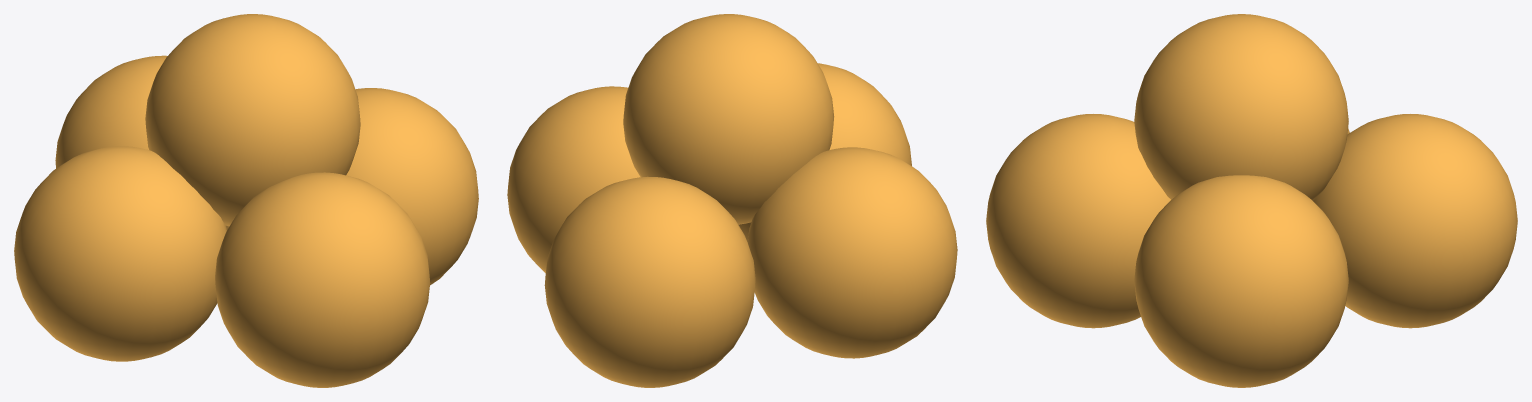
Rendered from ciasto-kopytka.gltf.
The picture shows the model from 3 angles, left to right: view 1: azimuth 30°, elevation 25°; view 2: azimuth 150°, elevation 25°; view 3: azimuth 270°, elevation 25°; orthographic projection. The views are drawn at different scales.
Visible parts, largest first — view 1: Sphere.011, Sphere.012, Sphere.001, Sphere.009, Sphere.010; view 2: Sphere.010, Sphere.012, Sphere.001, Sphere.009, Sphere.011; view 3: Sphere.009, Sphere.010, Sphere.001, Sphere.011.
Boxes of the visible parts, x1,y1,x2,y2 form: Sphere.011: (215, 172, 430, 387); Sphere.012: (14, 146, 226, 361); Sphere.001: (145, 14, 360, 226); Sphere.009: (346, 88, 478, 285); Sphere.010: (55, 55, 229, 229); Sphere.010: (544, 176, 755, 387); Sphere.012: (747, 147, 957, 358); Sphere.001: (623, 14, 834, 224); Sphere.009: (507, 86, 640, 272); Sphere.011: (738, 63, 911, 241); Sphere.009: (1134, 175, 1348, 387); Sphere.010: (1313, 114, 1517, 328); Sphere.001: (1134, 14, 1348, 200); Sphere.011: (986, 114, 1170, 328).
Bounding box in the file's own units: 0.2893 × 0.1902 × 0.3089.
Materials: 1 (1 with a texture image).
